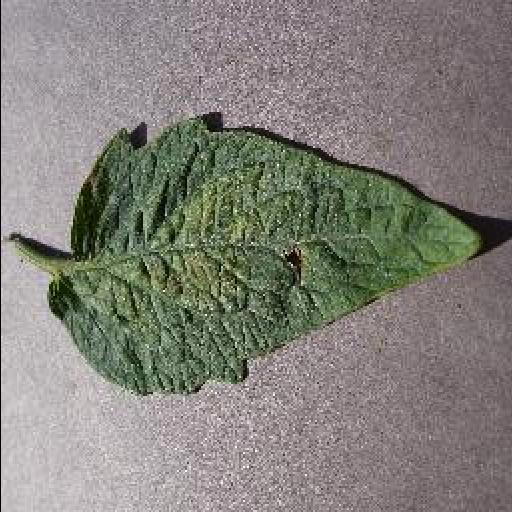disease_tomato: (46, 116, 484, 394)
